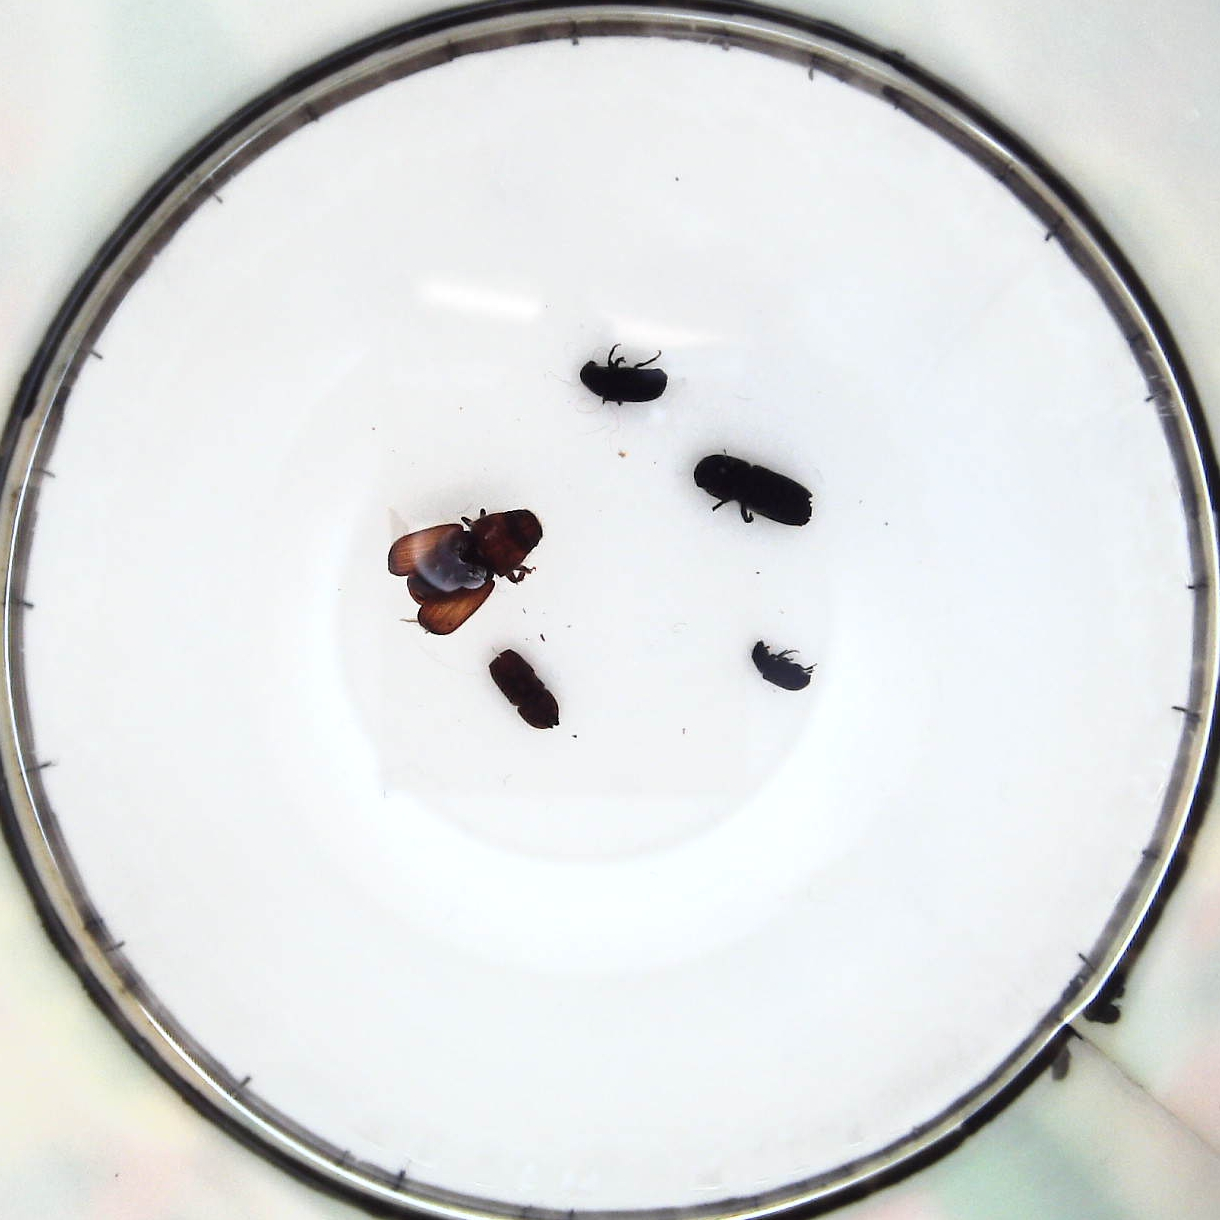Boerner: (693, 452, 814, 531)
Leconte: (388, 506, 540, 635)
Linnaeus: (486, 645, 559, 726)
armandi: (579, 350, 664, 409)
coleoptera: (745, 645, 813, 699)
